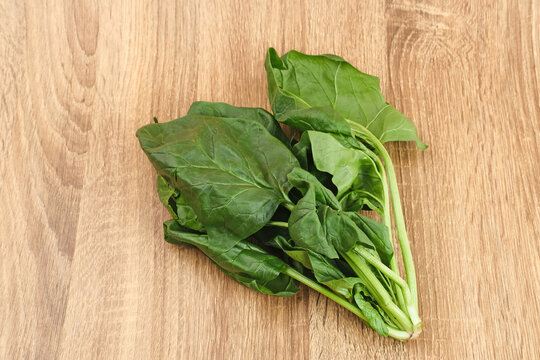Bayam: (100, 37, 508, 344)
